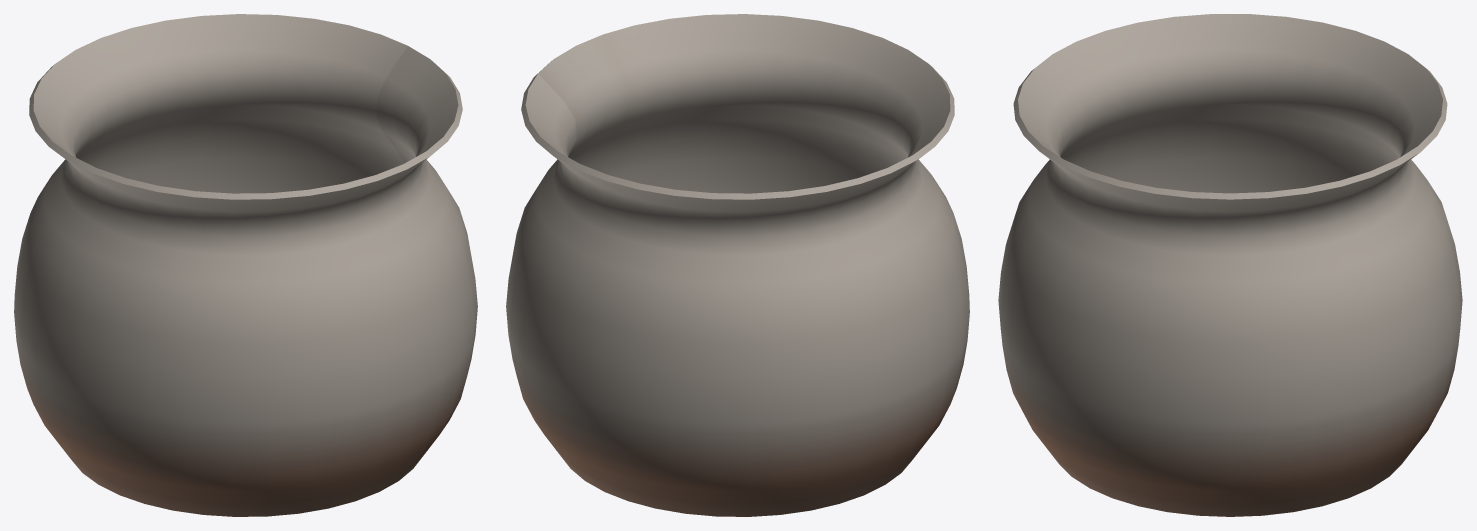
Rendered from TEXTURED VASE.fbx.
3 views of the same model, side by side, from view 1: azimuth 30°, elevation 25°; view 2: azimuth 150°, elevation 25°; view 3: azimuth 270°, elevation 25° (orthographic).
Visible parts, largest first — view 1: vase; view 2: vase; view 3: vase.
Boxes of the visible parts, x1=… form: vase: x1=14, y1=14, x2=477, y2=516; vase: x1=506, y1=14, x2=969, y2=516; vase: x1=998, y1=14, x2=1462, y2=516.
Size of the model in its own units: 0.0143 by 0.0115 by 0.0144.
